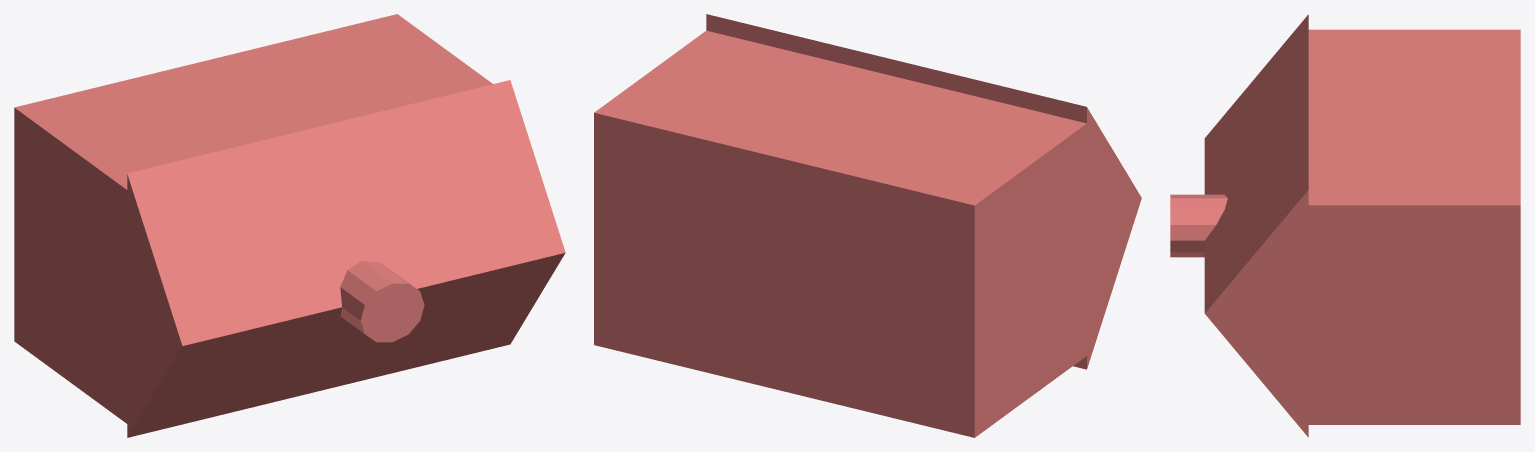
File: hotel.glb
3 renders of one model, left to right at view 1: azimuth 30°, elevation 25°; view 2: azimuth 150°, elevation 25°; view 3: azimuth 270°, elevation 25°, orthographic. The views are drawn at different scales.
Visible parts, largest first — view 1: world; view 2: world; view 3: world.
Boxes of the visible parts, <box> form: world: <box>14,14,565,437</box>; world: <box>594,14,1141,437</box>; world: <box>1170,14,1520,437</box>.
Size of the model in its own units: 1 by 0.6597 by 0.8439.
